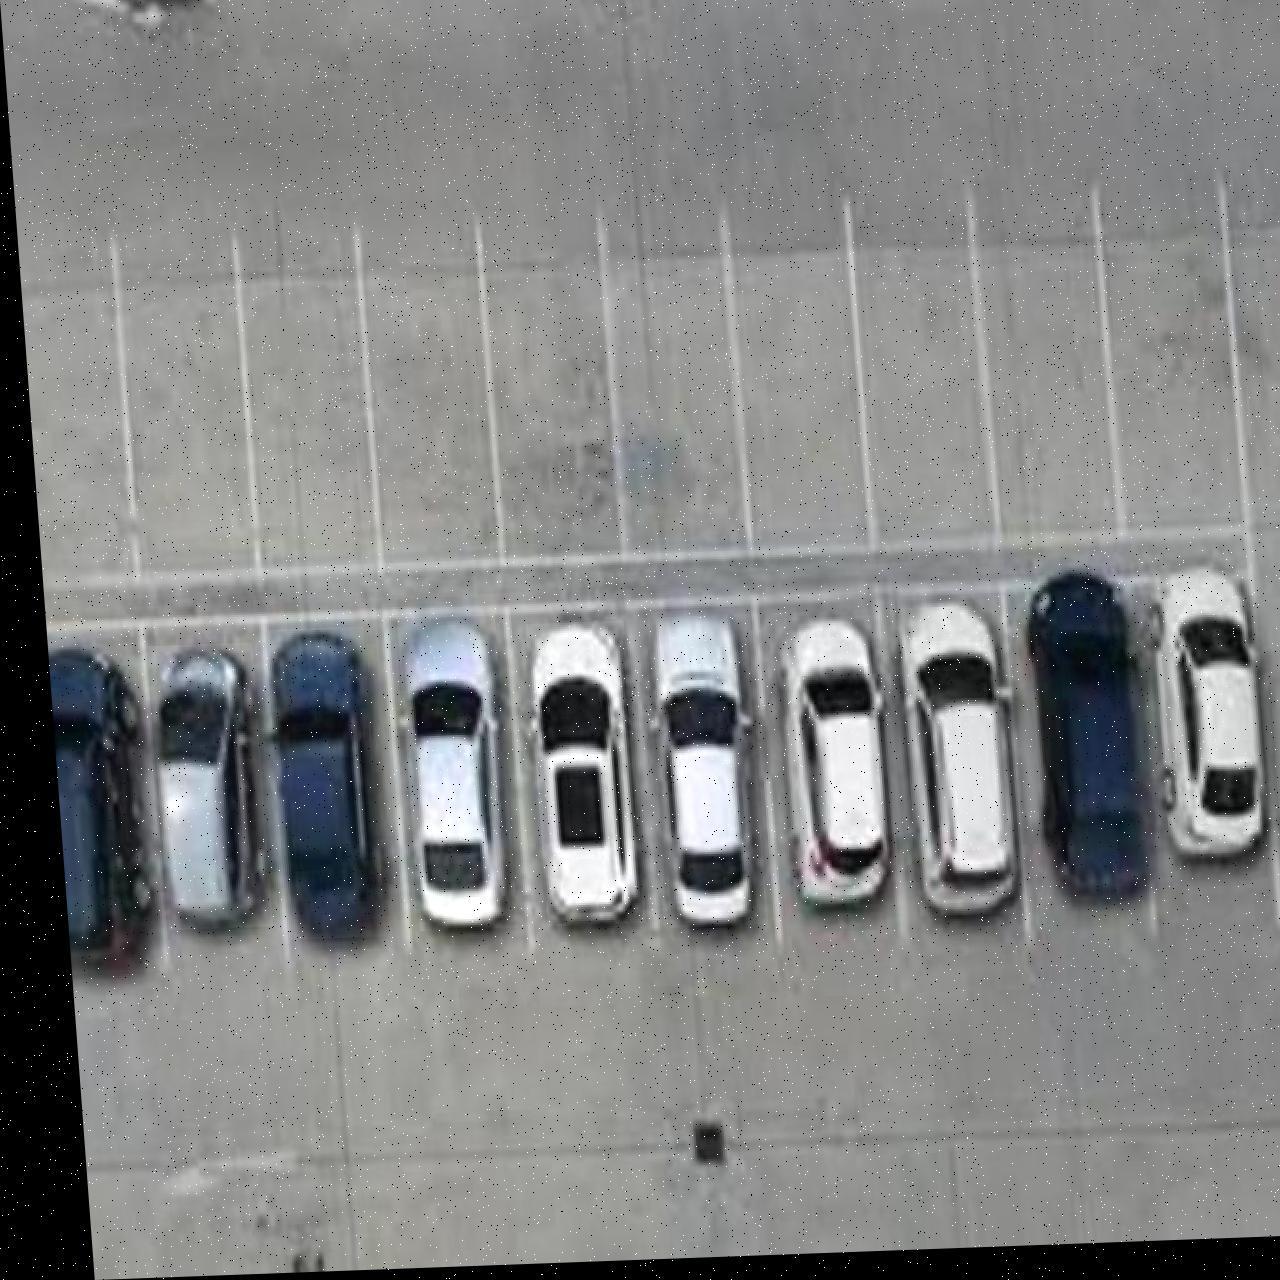car: (1014, 577, 1138, 910), (886, 602, 1013, 924), (1133, 573, 1260, 872), (636, 614, 754, 933), (387, 617, 503, 934), (763, 621, 886, 915), (257, 628, 372, 941), (40, 644, 147, 974), (516, 625, 631, 930), (138, 644, 258, 931)
